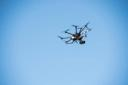UAV: (60, 24, 92, 45)
